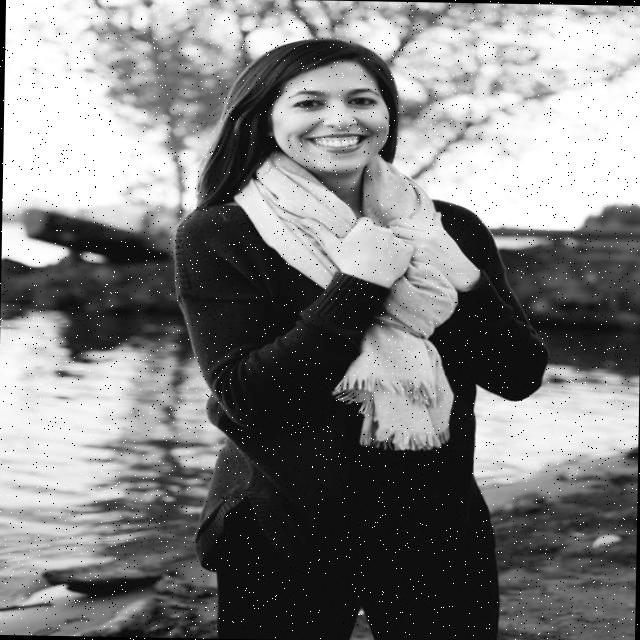Happiness: (272, 60, 392, 176)
